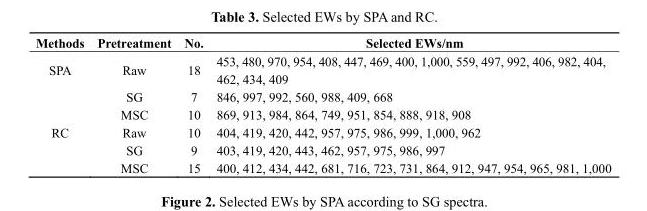table: (34, 35, 610, 174)
table column: (209, 35, 610, 174), (89, 35, 177, 174), (34, 35, 89, 174), (177, 35, 209, 174)
table column header: (34, 35, 610, 51)
table row: (34, 51, 610, 87), (34, 87, 610, 105), (34, 105, 610, 123), (34, 140, 610, 158), (34, 123, 610, 140), (34, 35, 610, 51), (34, 158, 610, 174)
table spanning cell: (34, 51, 89, 123), (34, 123, 89, 174)
